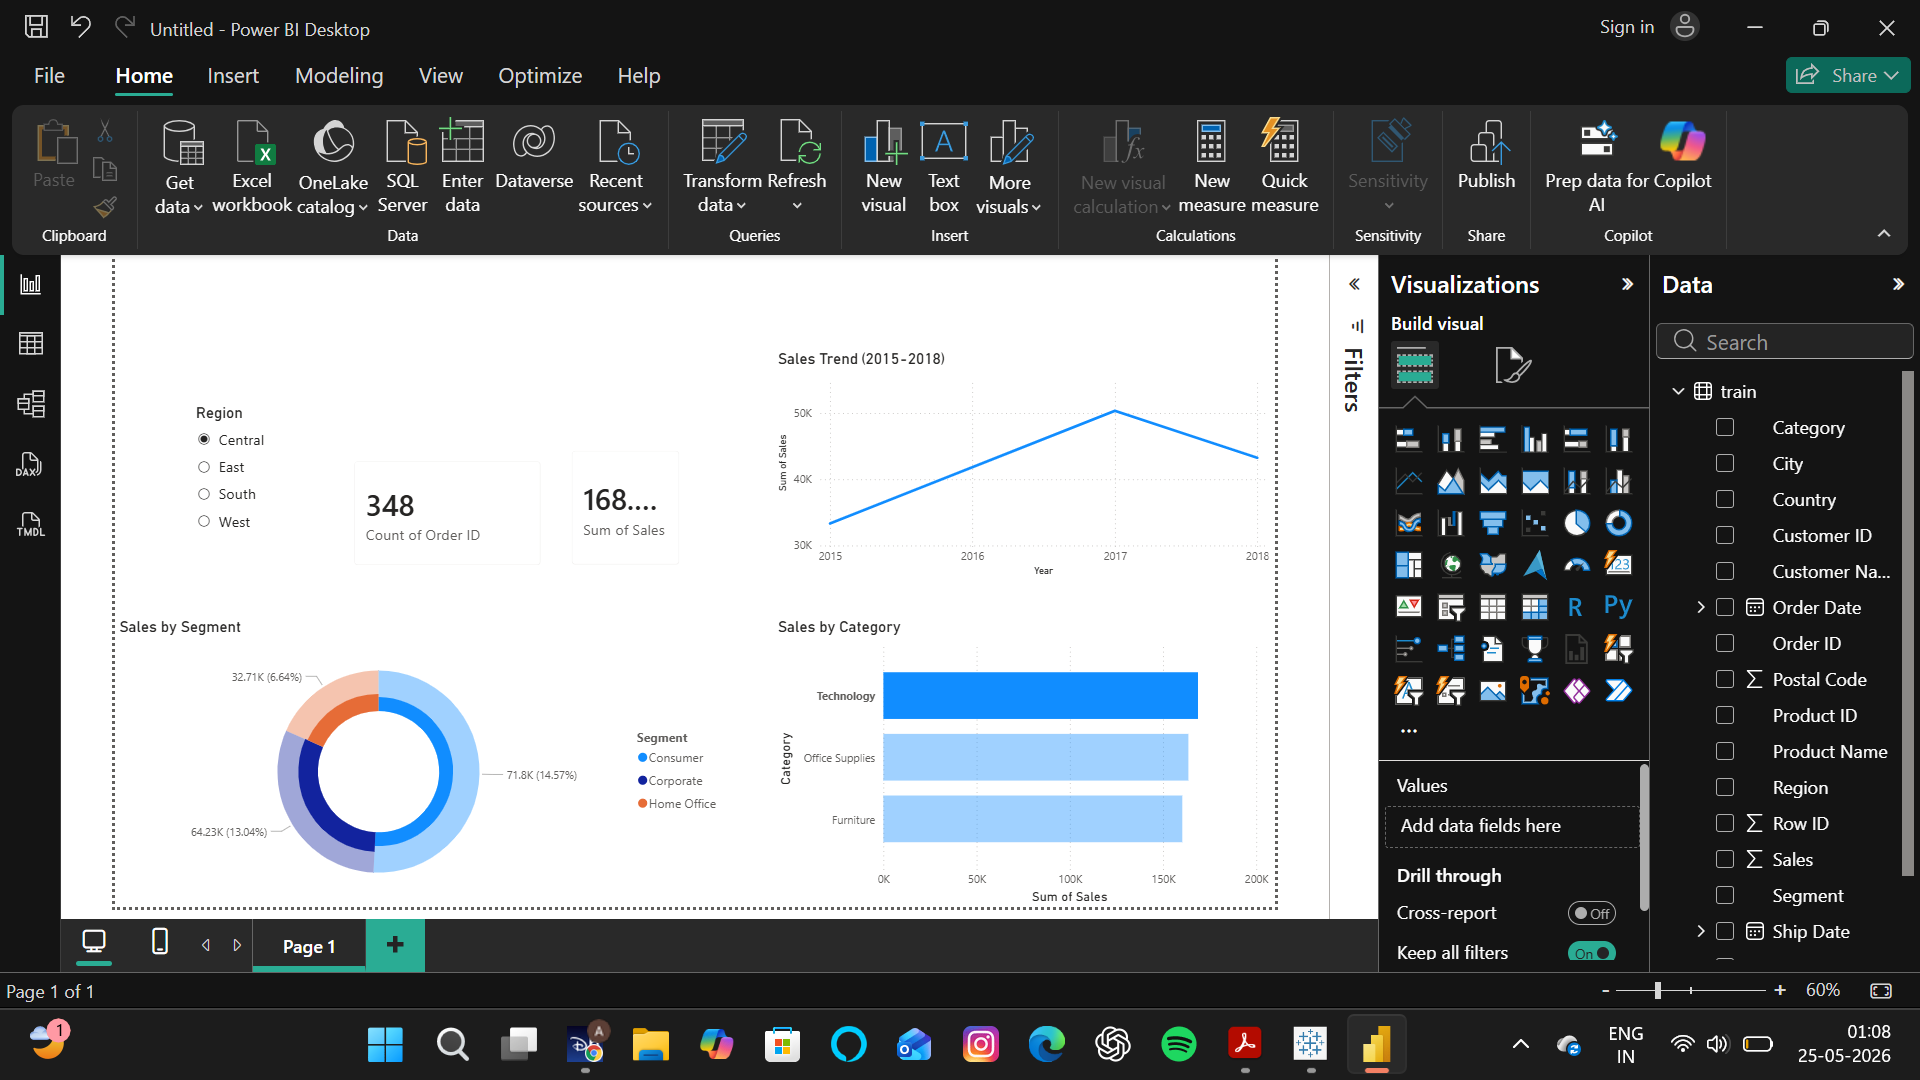

The page's visual inventory and layout, read from the dashboard file:
{"tool":"powerbi","page":{"name":"Page 1","canvas":[1280,720],"ordinal":0},"visuals":[{"type":"cardVisual","fields":{"Data":["Sum(train.Sales)"]},"box":[487.6,198.4,153.1,160.6],"z":0},{"type":"clusteredBarChart","title":"Sales by Category","fields":{"Category":["train.Category"],"Y":["Sum(train.Sales)"]},"box":[727.6,400.6,551.8,319.4],"z":2000},{"type":"donutChart","title":"Sales by Segment","fields":{"Category":["train.Segment"],"Y":["Sum(train.Sales)"]},"box":[0,400.6,678.4,319.4],"z":2001},{"type":"lineChart","title":"Sales Trend (2015-2018)","fields":{"Category":["train.Order Date.Variation.Date Hierarchy.Year","train.Order Date.Variation.Date Hierarchy.Quarter","train.Order Date.Variation.Date Hierarchy.Month","train.Order Date.Variation.Date Hierarchy.Day"],"Y":["Sum(train.Sales)"]},"box":[727.6,103.9,551.8,255.1],"z":2002},{"type":"listSlicer","fields":{"Values":["train.Region"]},"box":[85,164.4,111.5,194.6],"z":2003},{"type":"cardVisual","fields":{"Data":["Count(train.Order ID)"]},"box":[247.6,209.8,240,149.3],"z":2004}]}

Visuals, with their boxes on the page's 1280x720 design canvas (x1, y1, x2, y2). These are canvas units, not pixel positions in the 1920x1080 screenshot, which may show the page scaled, cropped or inside an application window:
cardVisual - Sum(train.Sales): pyautogui.locateOnScreen(488, 198, 641, 359)
"Sales by Category" clusteredBarChart: pyautogui.locateOnScreen(728, 401, 1279, 720)
"Sales by Segment" donutChart: pyautogui.locateOnScreen(0, 401, 678, 720)
"Sales Trend (2015-2018)" lineChart: pyautogui.locateOnScreen(728, 104, 1279, 359)
listSlicer - train.Region: pyautogui.locateOnScreen(85, 164, 196, 359)
cardVisual - Count(train.Order ID): pyautogui.locateOnScreen(248, 210, 488, 359)
